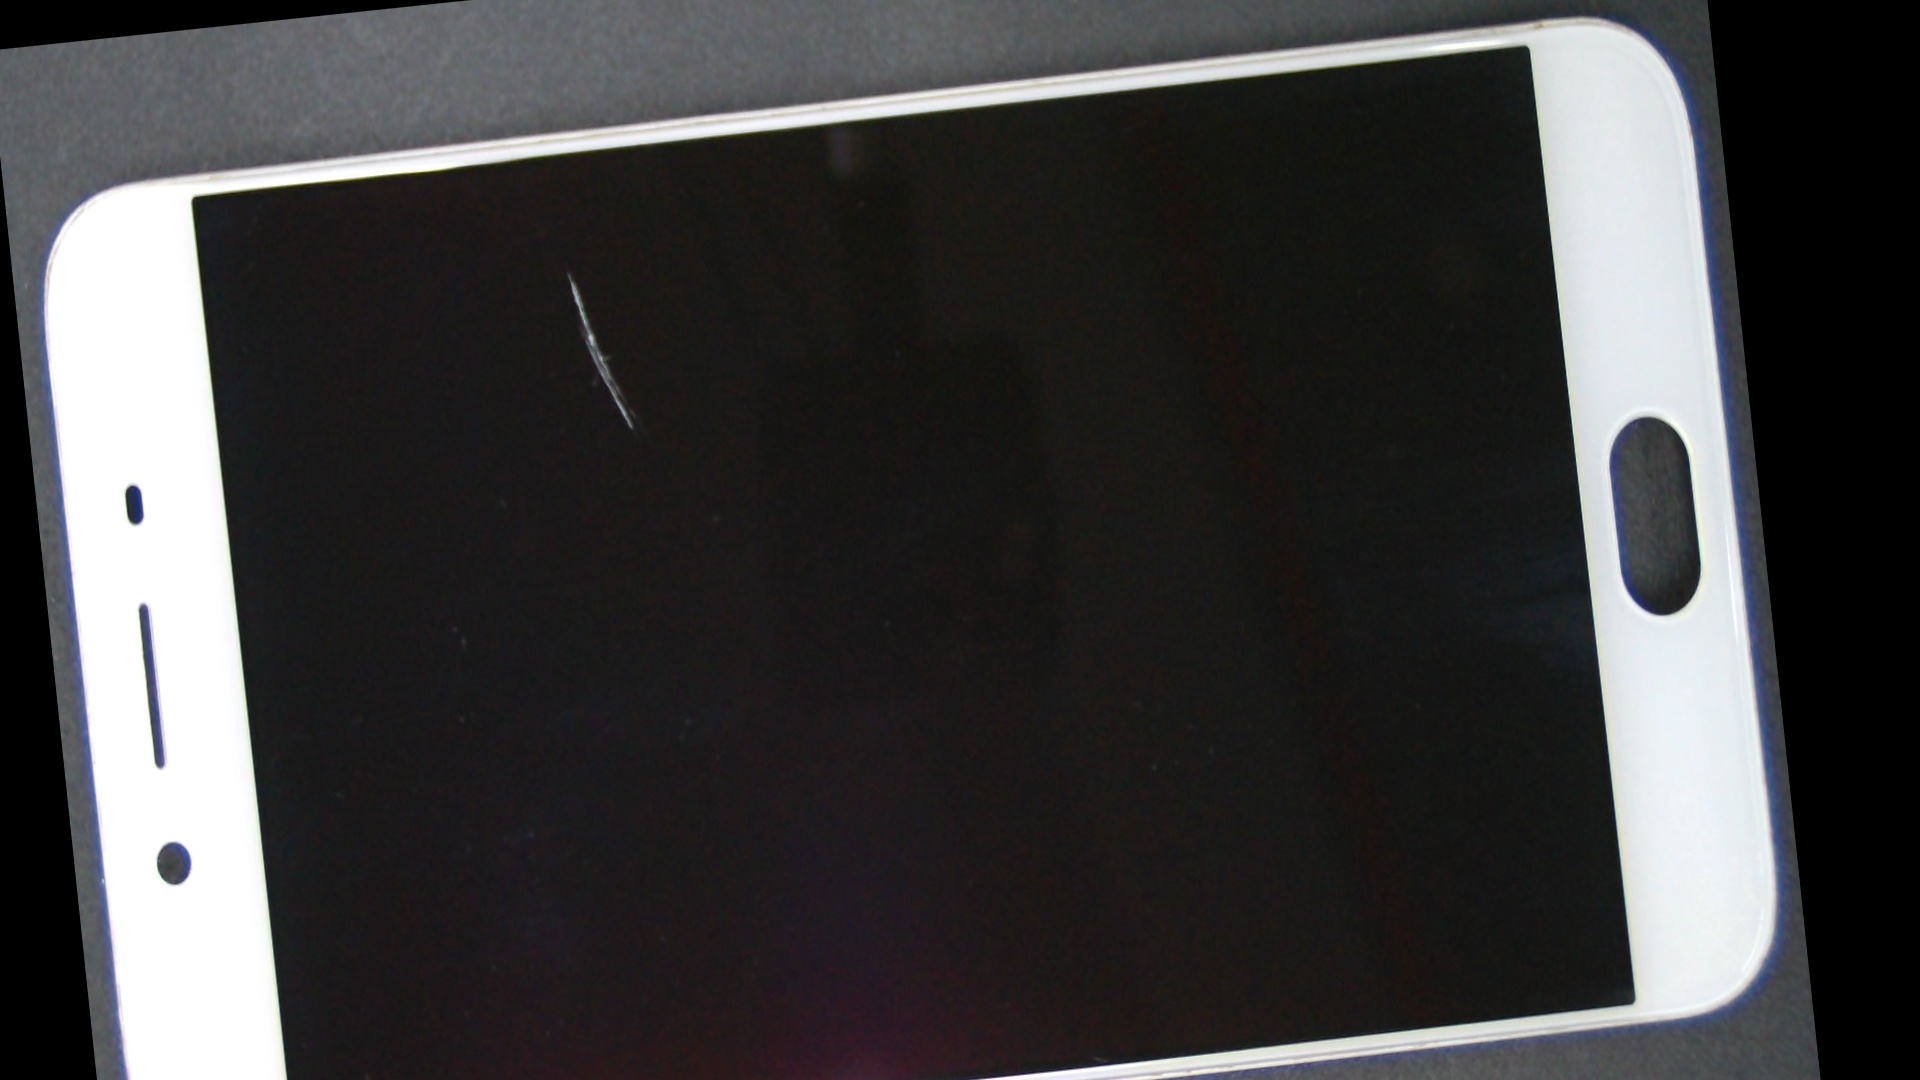oil: (280, 104, 860, 443)
